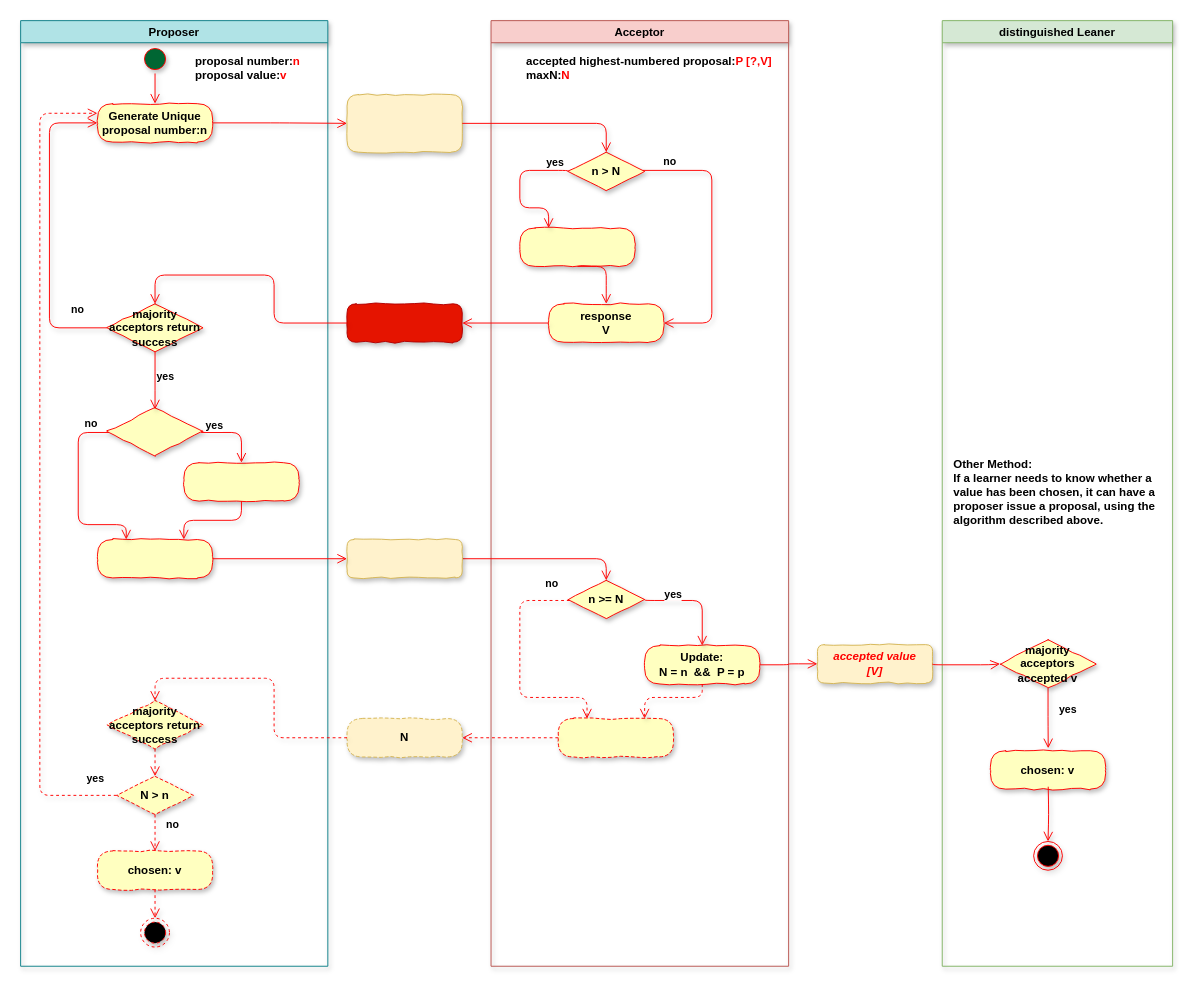
This 1195x990 diagram has some shape labels left out. Each missing label, with the centre of its shape:
accept request p:[n, max (V)]: (x=405, y=560)
P [?,V] abandon_tag: (x=405, y=324)
response: (x=616, y=739)
send to all acceptor: (x=155, y=560)
sends a prepare request with [ n ] to majority of acceptors: (x=405, y=124)
update: N = n: (x=578, y=248)
V != null: (x=155, y=432)
v = max (V): (x=242, y=483)
